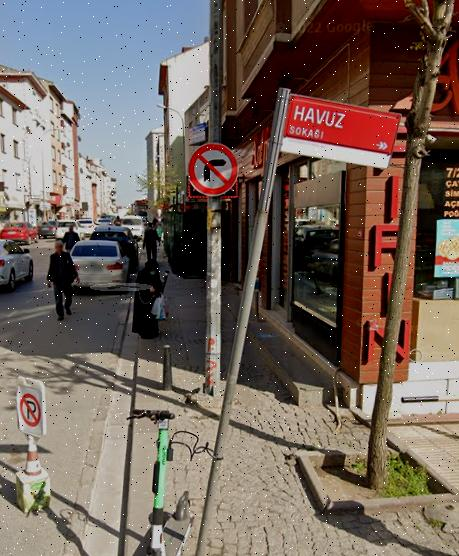rightturnsareforbidden: (191, 143, 238, 194)
